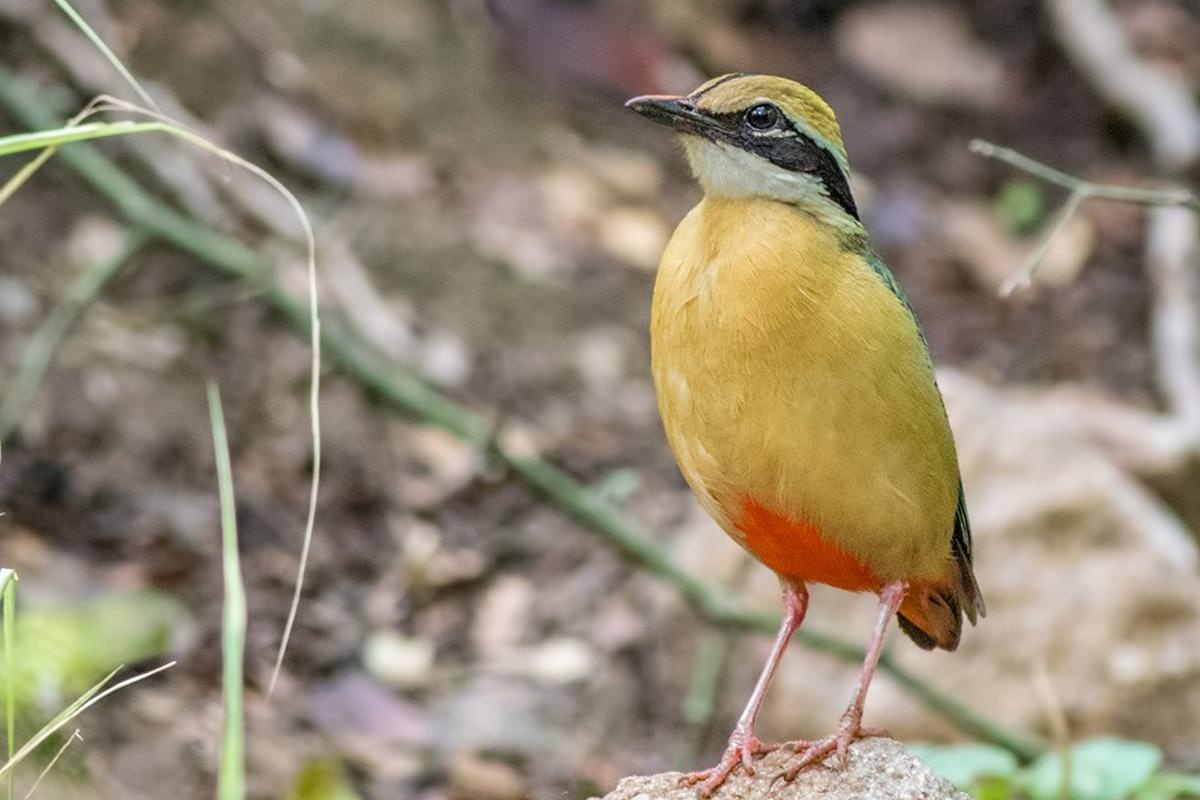pitta: (635, 42, 1050, 727)
